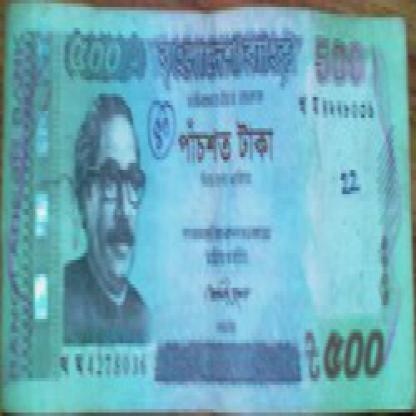500 taka: (59, 24, 157, 97), (176, 122, 278, 180)
currency: (5, 7, 408, 409)
